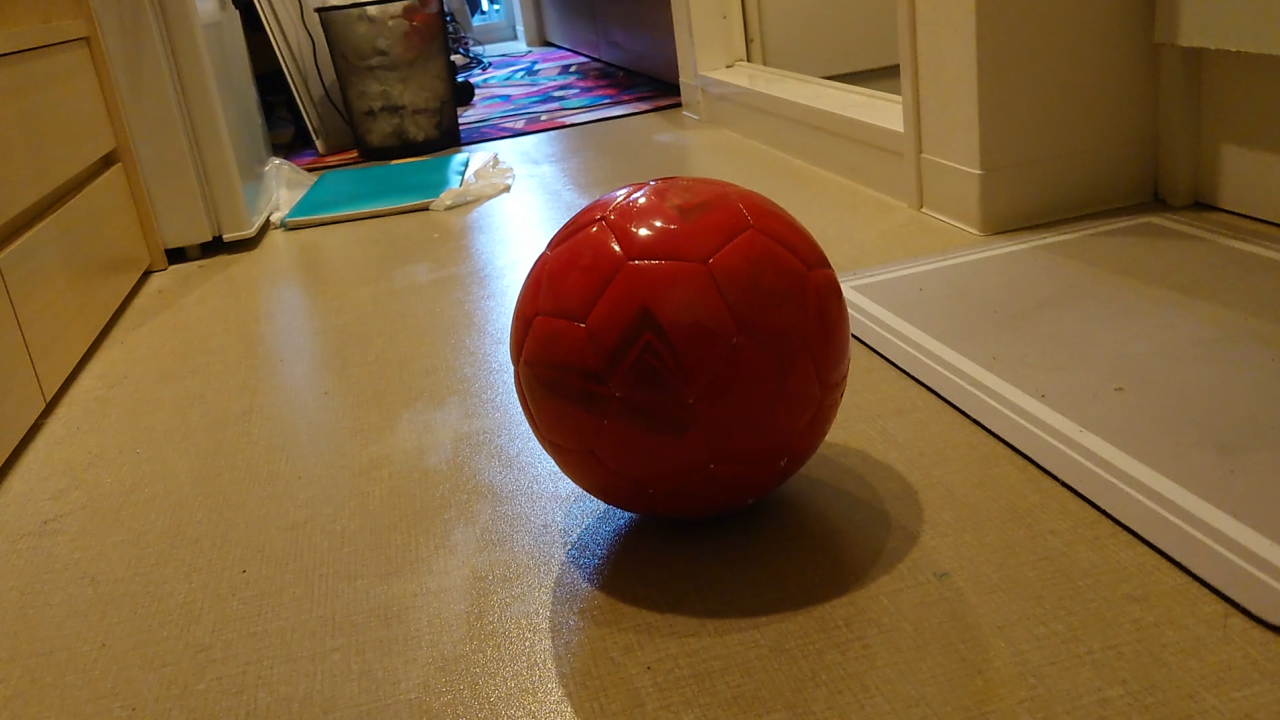red: (503, 175, 852, 525)
